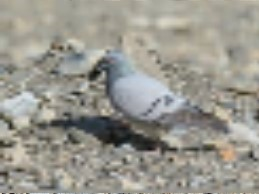pigeon: (94, 52, 230, 156)
